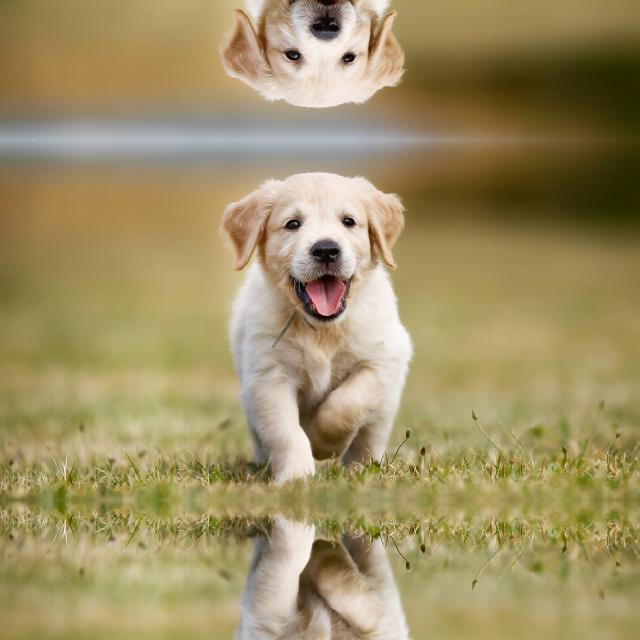dog: (206, 162, 418, 490), (206, 509, 417, 640), (206, 0, 417, 118)
